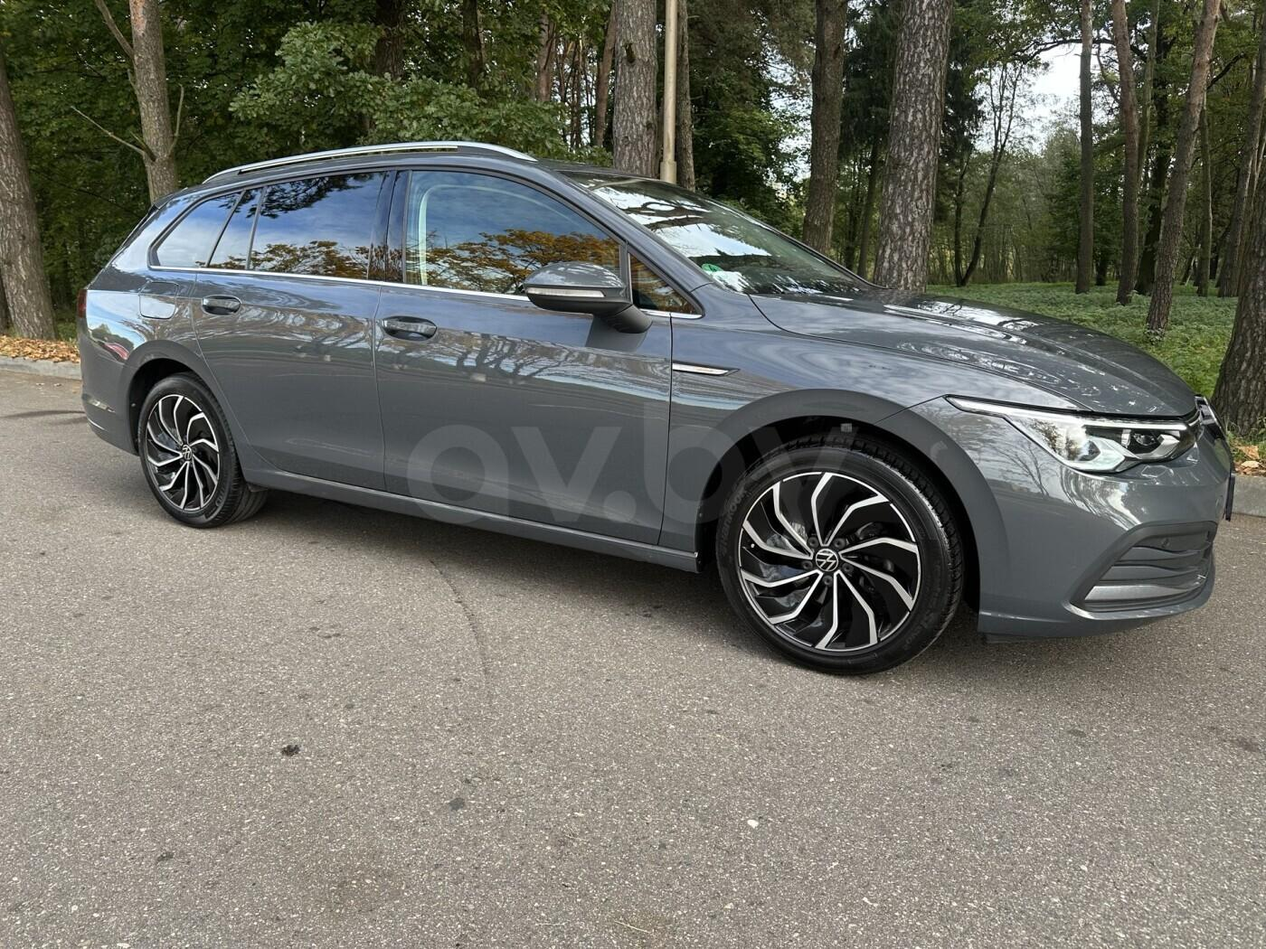Golf_2019: (78, 143, 1239, 675)
